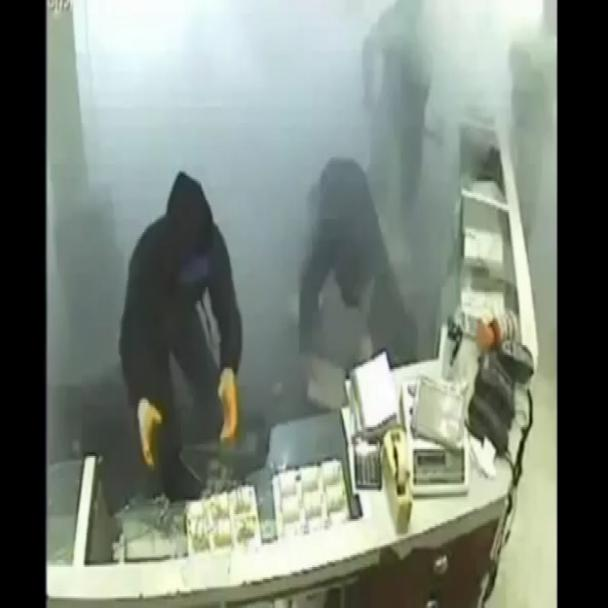smoke: (78, 1, 540, 553)
